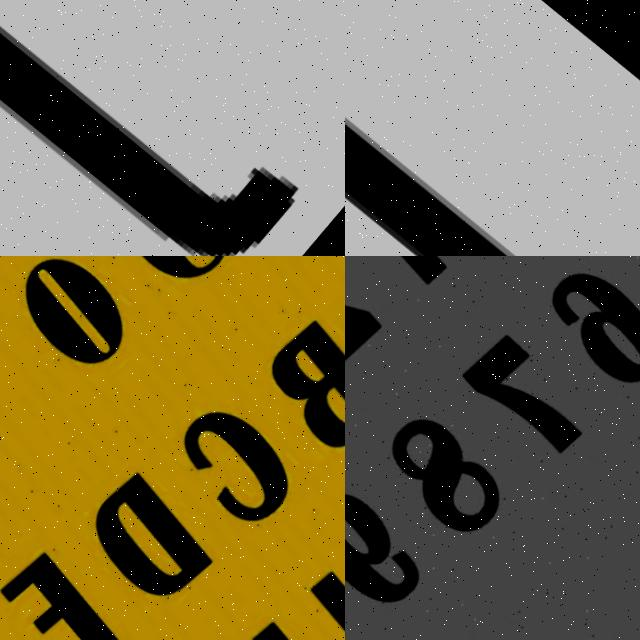0: (0, 256, 174, 409)
1: (345, 256, 505, 318)
2: (345, 256, 421, 392)
6: (509, 256, 640, 411)
7: (426, 309, 637, 497)
8: (345, 375, 548, 565)
9: (345, 455, 476, 640), (70, 256, 268, 321)
J: (0, 0, 340, 256)
